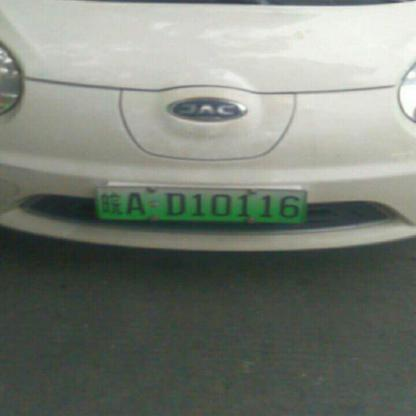lp: (97, 186, 306, 222)
